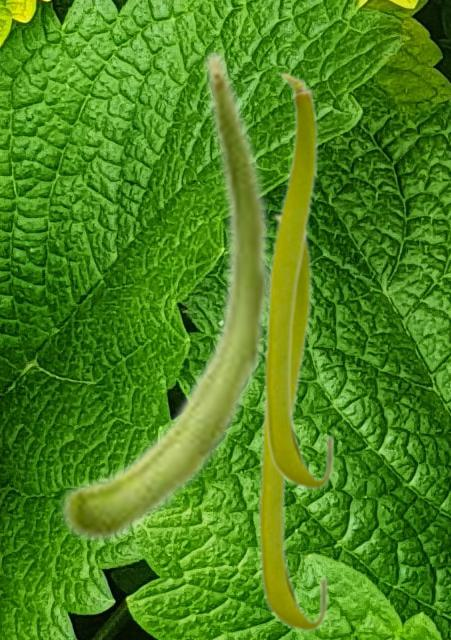french_bean: (58, 46, 274, 543), (256, 212, 328, 632), (262, 70, 334, 490)
